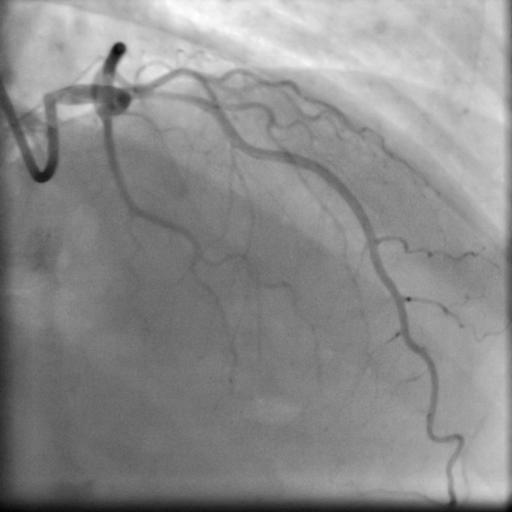Stenosis: (149, 86, 200, 107)
